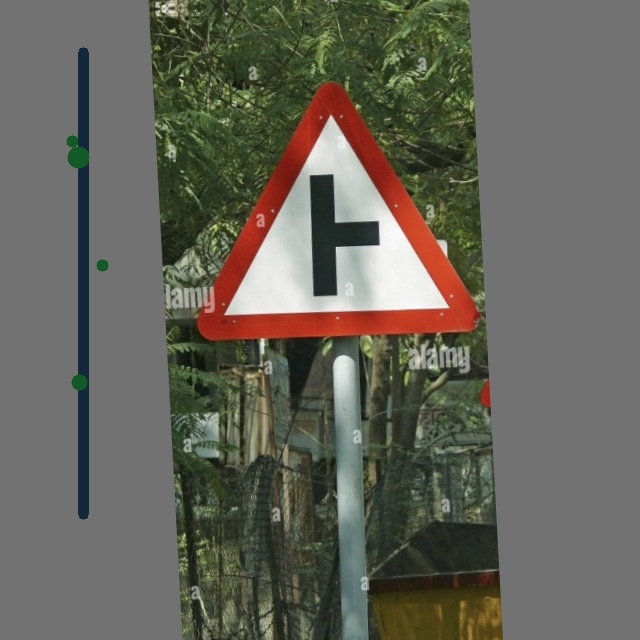Side_Road_Right: (190, 72, 478, 351)
